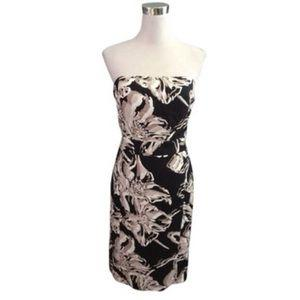C_dress: (96, 67, 208, 297)
